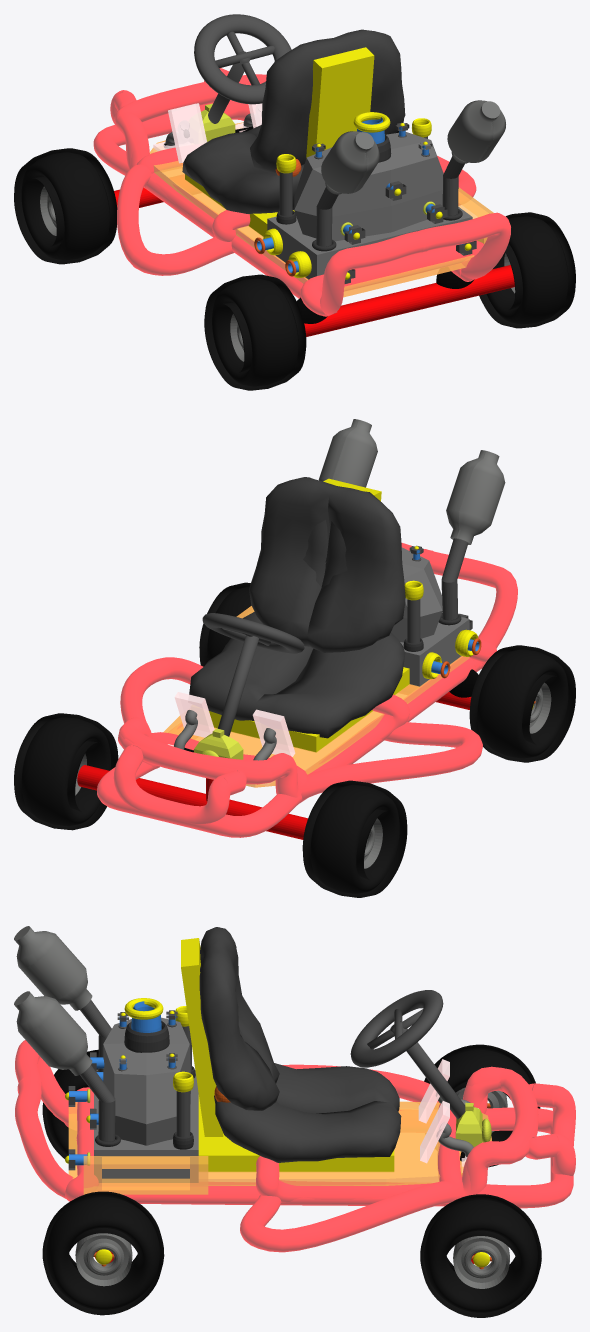
Rendered from go_kart_64.glb.
The picture shows the model from 3 angles, top to bottom: view 1: azimuth 30°, elevation 25°; view 2: azimuth 150°, elevation 25°; view 3: azimuth 270°, elevation 25°; orthographic projection. The views are drawn at different scales.
Visible parts, largest first — view 1: BezierCurve, Torus.006, Sphere, Torus.002, Torus.001, Torus.025, Torus, Cube.007, Cube, BezierCurve.001; view 2: Sphere, BezierCurve, Torus.006, Torus.001, Torus.002, Torus.003, Torus, Cube, Cube.007, Torus.025, BezierCurve.001, BezierCurve.002; view 3: BezierCurve, Torus.006, Sphere, Torus.025, Torus.003, Cube.007, Torus, Cube, Torus.002, Torus.001, BezierCurve.002, BezierCurve.001.
Part boxes in pixels (x1=…): BezierCurve: x1=93, y1=68, x2=514, y2=336; Torus.006: x1=254, y1=100, x2=505, y2=283; Sphere: x1=182, y1=29, x2=405, y2=213; Torus.002: x1=14, y1=148, x2=117, y2=264; Torus.001: x1=204, y1=274, x2=306, y2=390; Torus.025: x1=478, y1=212, x2=575, y2=328; Torus: x1=114, y1=14, x2=291, y2=207; Cube.007: x1=185, y1=47, x2=374, y2=236; Cube: x1=149, y1=122, x2=474, y2=297; BezierCurve.001: x1=153, y1=103, x2=206, y2=163; Sphere: x1=189, y1=477, x2=405, y2=738; BezierCurve: x1=97, y1=543, x2=517, y2=837; Torus.006: x1=236, y1=419, x2=505, y2=686; Torus.001: x1=469, y1=645, x2=575, y2=762; Torus.002: x1=302, y1=780, x2=407, y2=897; Torus.003: x1=14, y1=713, x2=118, y2=830; Torus: x1=77, y1=613, x2=307, y2=839; Cube: x1=163, y1=656, x2=469, y2=787; Cube.007: x1=209, y1=478, x2=409, y2=752; Torus.025: x1=199, y1=582, x2=251, y2=666; BezierCurve.001: x1=252, y1=709, x2=295, y2=785; BezierCurve.002: x1=168, y1=692, x2=214, y2=749; BezierCurve: x1=15, y1=1040, x2=575, y2=1263; Torus.006: x1=14, y1=926, x2=208, y2=1194; Sphere: x1=199, y1=927, x2=401, y2=1162; Torus.025: x1=42, y1=1191, x2=164, y2=1315; Torus.003: x1=420, y1=1194, x2=541, y2=1317; Cube.007: x1=181, y1=938, x2=394, y2=1171; Torus: x1=350, y1=990, x2=491, y2=1263; Cube: x1=68, y1=1101, x2=491, y2=1185; Torus.002: x1=424, y1=1044, x2=540, y2=1167; Torus.001: x1=42, y1=1049, x2=98, y2=1158; BezierCurve.002: x1=420, y1=1101, x2=473, y2=1172; BezierCurve.001: x1=418, y1=1059, x2=478, y2=1123.
Bounding box in the file's own units: 0.1199 × 0.092 × 0.1589.
